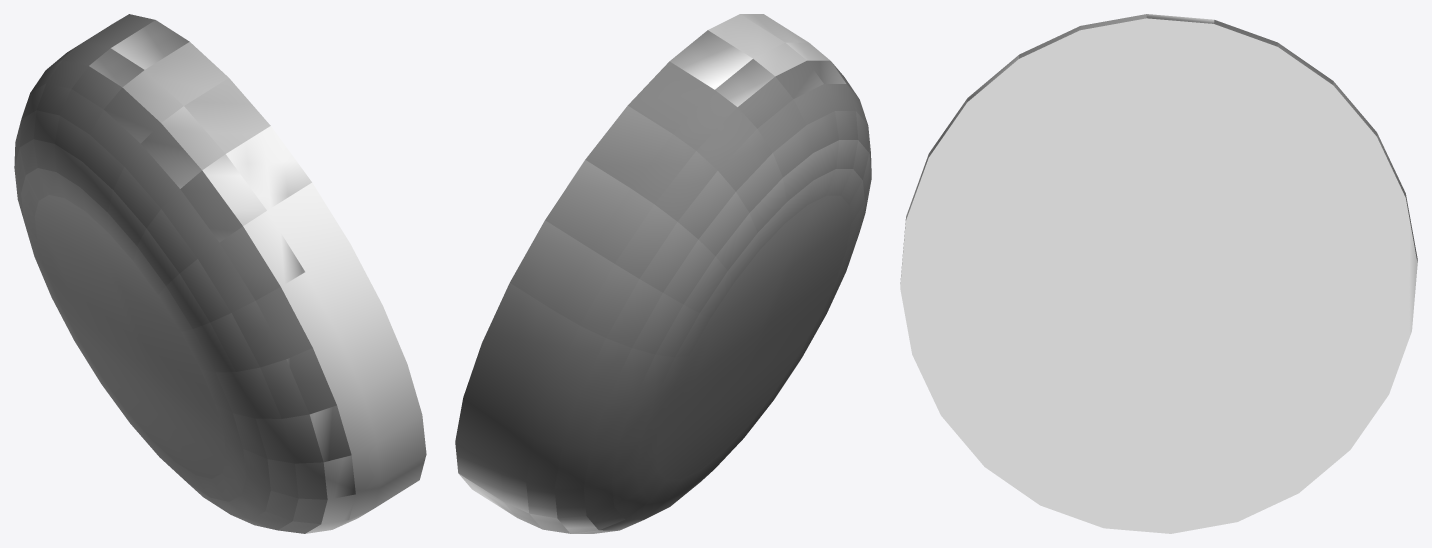
The model's file is original-10.obj.
3 renders of one model, left to right at view 1: azimuth 30°, elevation 25°; view 2: azimuth 150°, elevation 25°; view 3: azimuth 270°, elevation 25°, orthographic. The views are drawn at different scales.
Parts seen in each view (by area): view 1: Component_3_3/Component_3_1_2/mesh20/mesh20-geometry#mesh20-geom; view 2: Component_3_3/Component_3_1_2/mesh20/mesh20-geometry#mesh20-geom; view 3: Component_3_3/Component_3_1_2/mesh20/mesh20-geometry#mesh20-geom.
Part boxes in pixels (<box>): Component_3_3/Component_3_1_2/mesh20/mesh20-geometry#mesh20-geom: <box>14,14,426,533</box>; Component_3_3/Component_3_1_2/mesh20/mesh20-geometry#mesh20-geom: <box>455,14,871,533</box>; Component_3_3/Component_3_1_2/mesh20/mesh20-geometry#mesh20-geom: <box>900,14,1417,533</box>.
Bounding box in the file's own units: 0.012 × 0.0208 × 0.0211.
